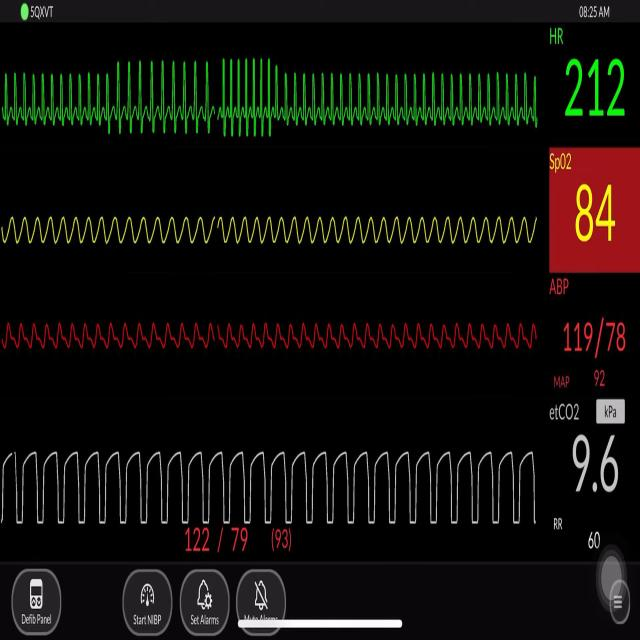danger: (280, 66, 545, 132), (110, 49, 212, 142), (6, 58, 107, 135), (218, 47, 275, 146)
